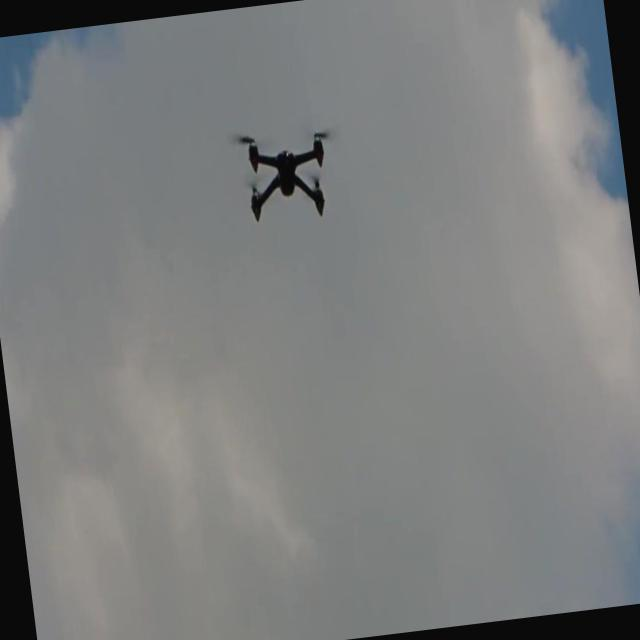drone: (236, 121, 340, 227)
